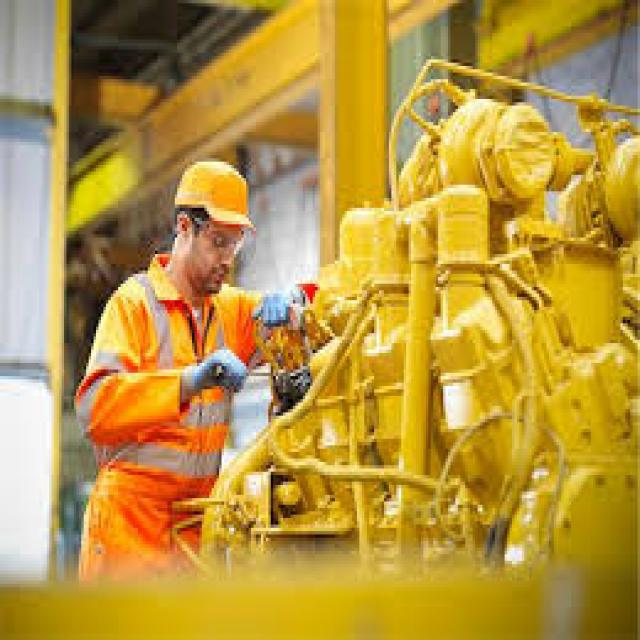Reflective-Jacket: (74, 264, 271, 538)
Safety-Helmet: (165, 148, 266, 248)
